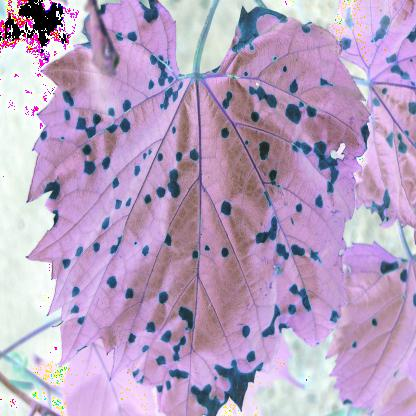grape leaf black rot: (16, 4, 368, 413)
